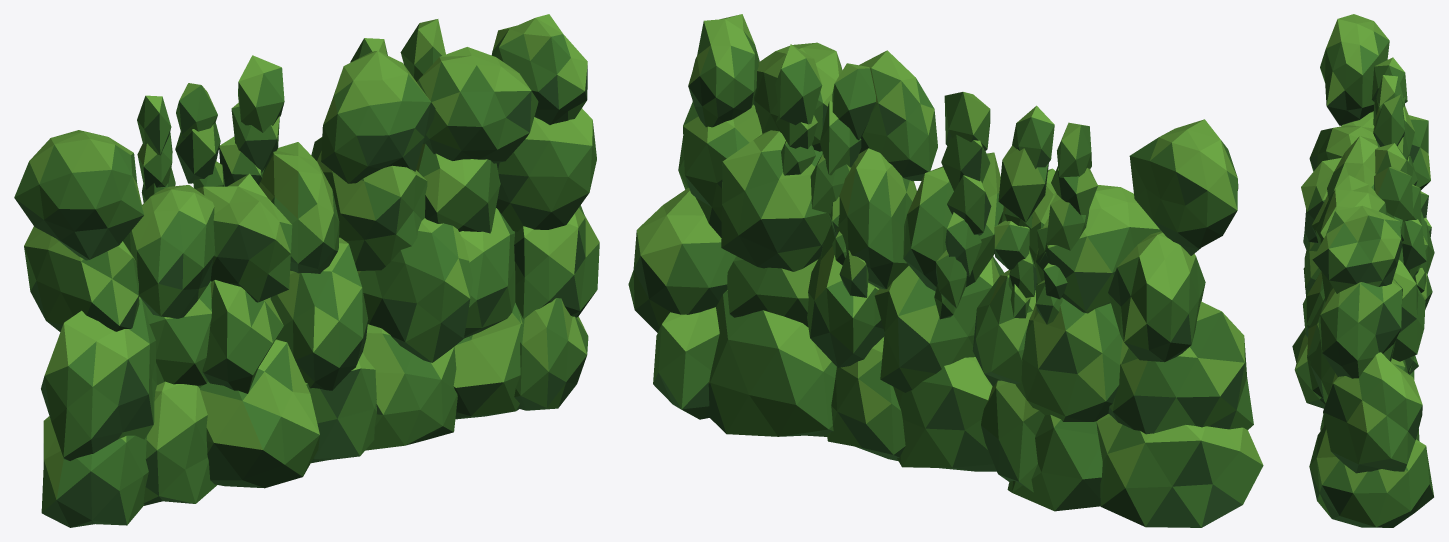
File: F10_VineCurtainWall4M.glb
3 renders of one model, left to right at view 1: azimuth 30°, elevation 25°; view 2: azimuth 150°, elevation 25°; view 3: azimuth 270°, elevation 25°, orthographic. The views are drawn at different scales.
Visible parts, largest first — view 1: F10_VineCurtainWall4M; view 2: F10_VineCurtainWall4M; view 3: F10_VineCurtainWall4M.
Boxes of the visible parts, left/top/right/bottom form: F10_VineCurtainWall4M: left=14, top=14, right=599, bottom=527; F10_VineCurtainWall4M: left=628, top=14, right=1263, bottom=527; F10_VineCurtainWall4M: left=1292, top=14, right=1434, bottom=527.
Size of the model in its own units: 5.35 by 3.35 by 1.35.
